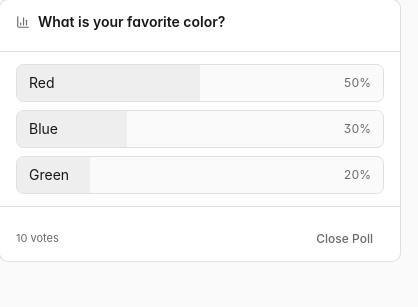
it: PollMessage › close poll button › shows error feedback when close poll fails
The width and height of the screenshot is (418, 307).
Click the button "Close Poll" at (345, 239), box [305,227,384,251]
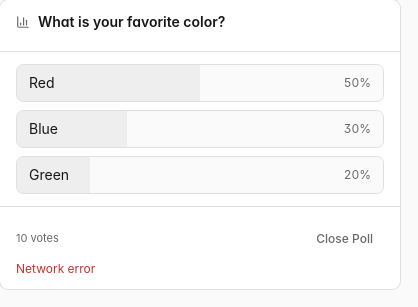
Check: the text "Network error" is shown, box [16,261,95,276]
